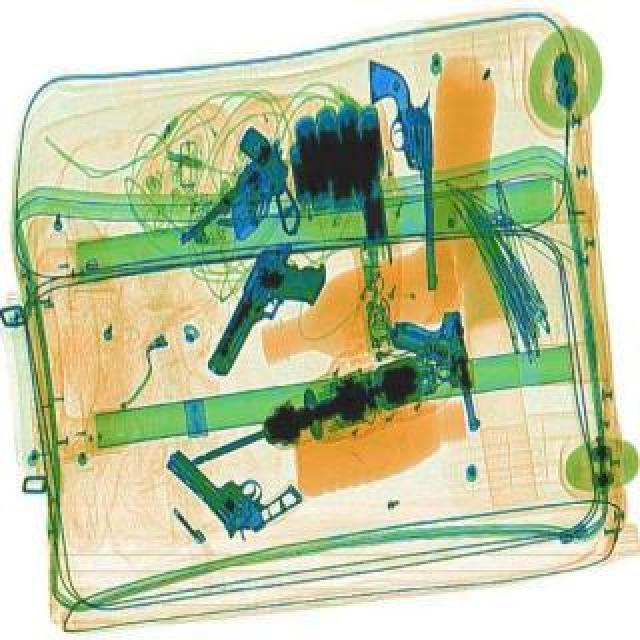gun: (168, 148, 328, 288), (202, 238, 332, 392), (160, 410, 304, 546), (366, 54, 442, 292), (386, 308, 482, 436)
